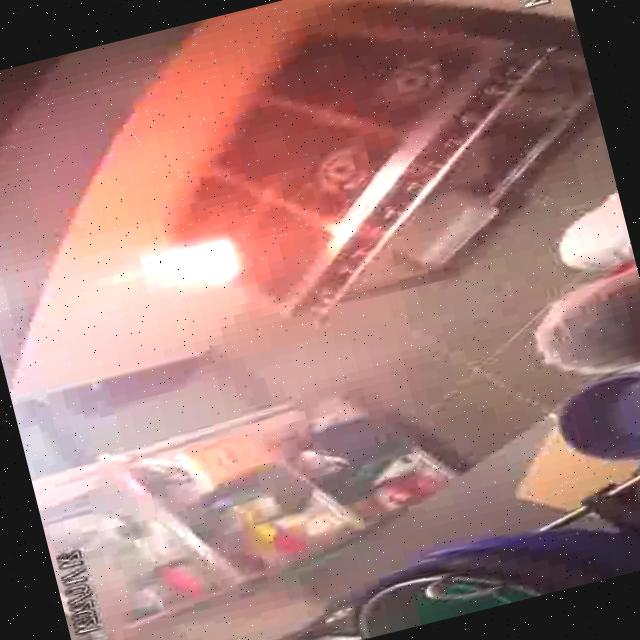fire: (83, 191, 305, 343)
